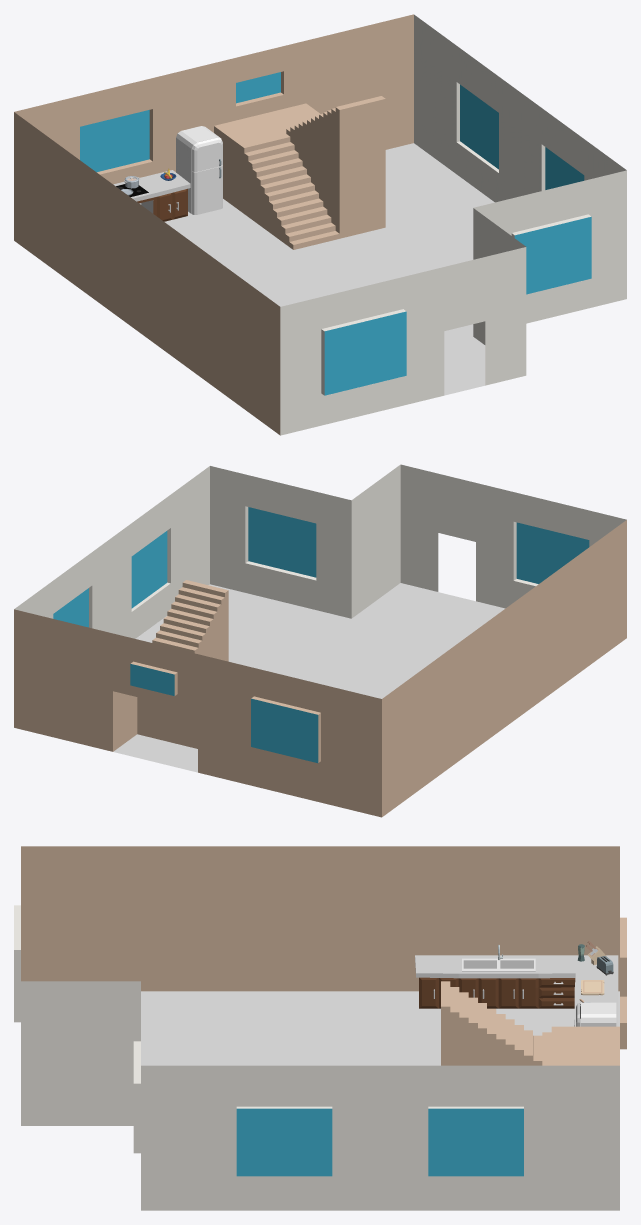
The model's file is insideHouse6.glb.
The picture shows the model from 3 angles, top to bottom: view 1: azimuth 30°, elevation 25°; view 2: azimuth 150°, elevation 25°; view 3: azimuth 270°, elevation 25°; orthographic projection. The views are drawn at different scales.
Parts seen in each view (by area): view 1: wall_north_west, wall_east_south, floor, windows, fridge, Kitchen; view 2: wall_north_west, wall_east_south, floor, windows; view 3: wall_north_west, wall_east_south, floor, windows, Kitchen, fridge.
Boxes of the visible parts, left/top/right/bottom form: wall_north_west: left=14, top=14, right=413, bottom=435; wall_east_south: left=280, top=14, right=626, bottom=435; floor: left=164, top=143, right=494, bottom=395; windows: left=80, top=72, right=591, bottom=395; fridge: left=176, top=126, right=222, bottom=214; Kitchen: left=113, top=168, right=190, bottom=221; wall_north_west: left=14, top=520, right=626, bottom=817; wall_east_south: left=14, top=464, right=626, bottom=638; floor: left=113, top=583, right=505, bottom=772; windows: left=53, top=507, right=589, bottom=763; wall_north_west: left=21, top=846, right=626, bottom=1065; wall_east_south: left=14, top=905, right=619, bottom=1210; floor: left=141, top=991, right=619, bottom=1065; windows: left=236, top=1108, right=523, bottom=1176; Kitchen: left=415, top=941, right=618, bottom=1026; fridge: left=576, top=1002, right=616, bottom=1026.
Size of the model in its own units: 13.12 by 4 by 15.36.
Materials: 40 (1 with a texture image).
